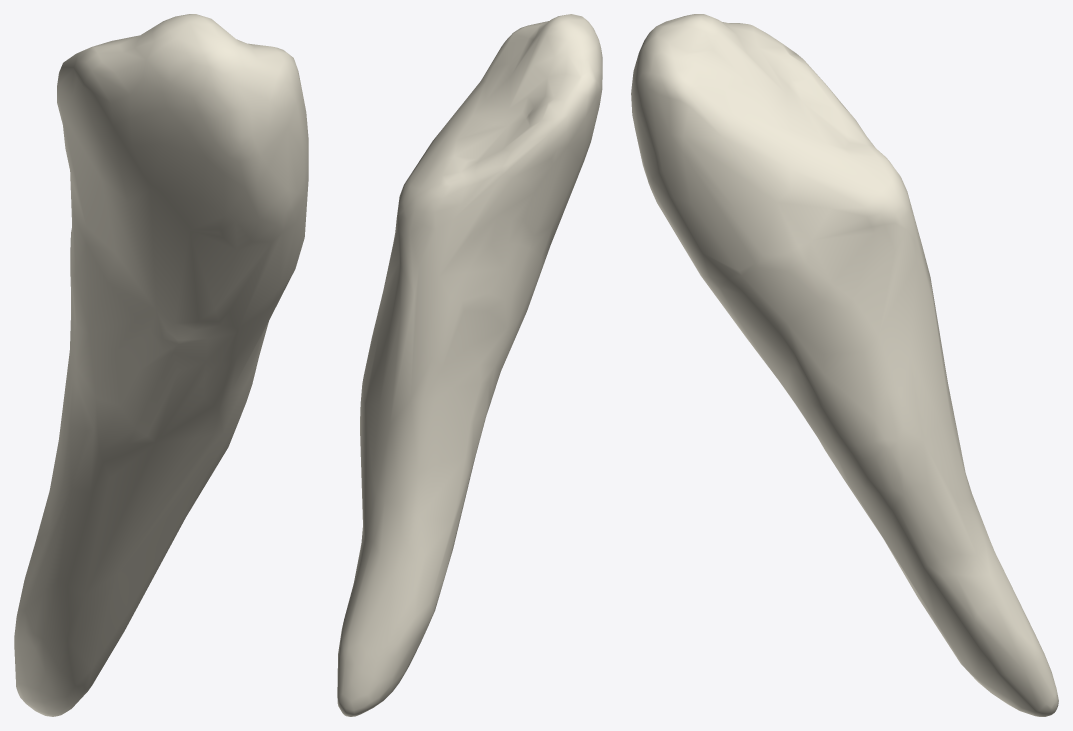
The picture shows the model from 3 angles, left to right: view 1: azimuth 30°, elevation 25°; view 2: azimuth 150°, elevation 25°; view 3: azimuth 270°, elevation 25°; orthographic projection. The views are drawn at different scales.
Visible parts, largest first — view 1: ZA_0a734ef3872d59f6; view 2: ZA_0a734ef3872d59f6; view 3: ZA_0a734ef3872d59f6.
Part boxes in pixels (x1=…): ZA_0a734ef3872d59f6: x1=14, y1=14, x2=308, y2=716; ZA_0a734ef3872d59f6: x1=337, y1=14, x2=602, y2=716; ZA_0a734ef3872d59f6: x1=631, y1=14, x2=1058, y2=716.
Size of the model in its own units: 0.00771 by 0.0262 by 0.0152.
